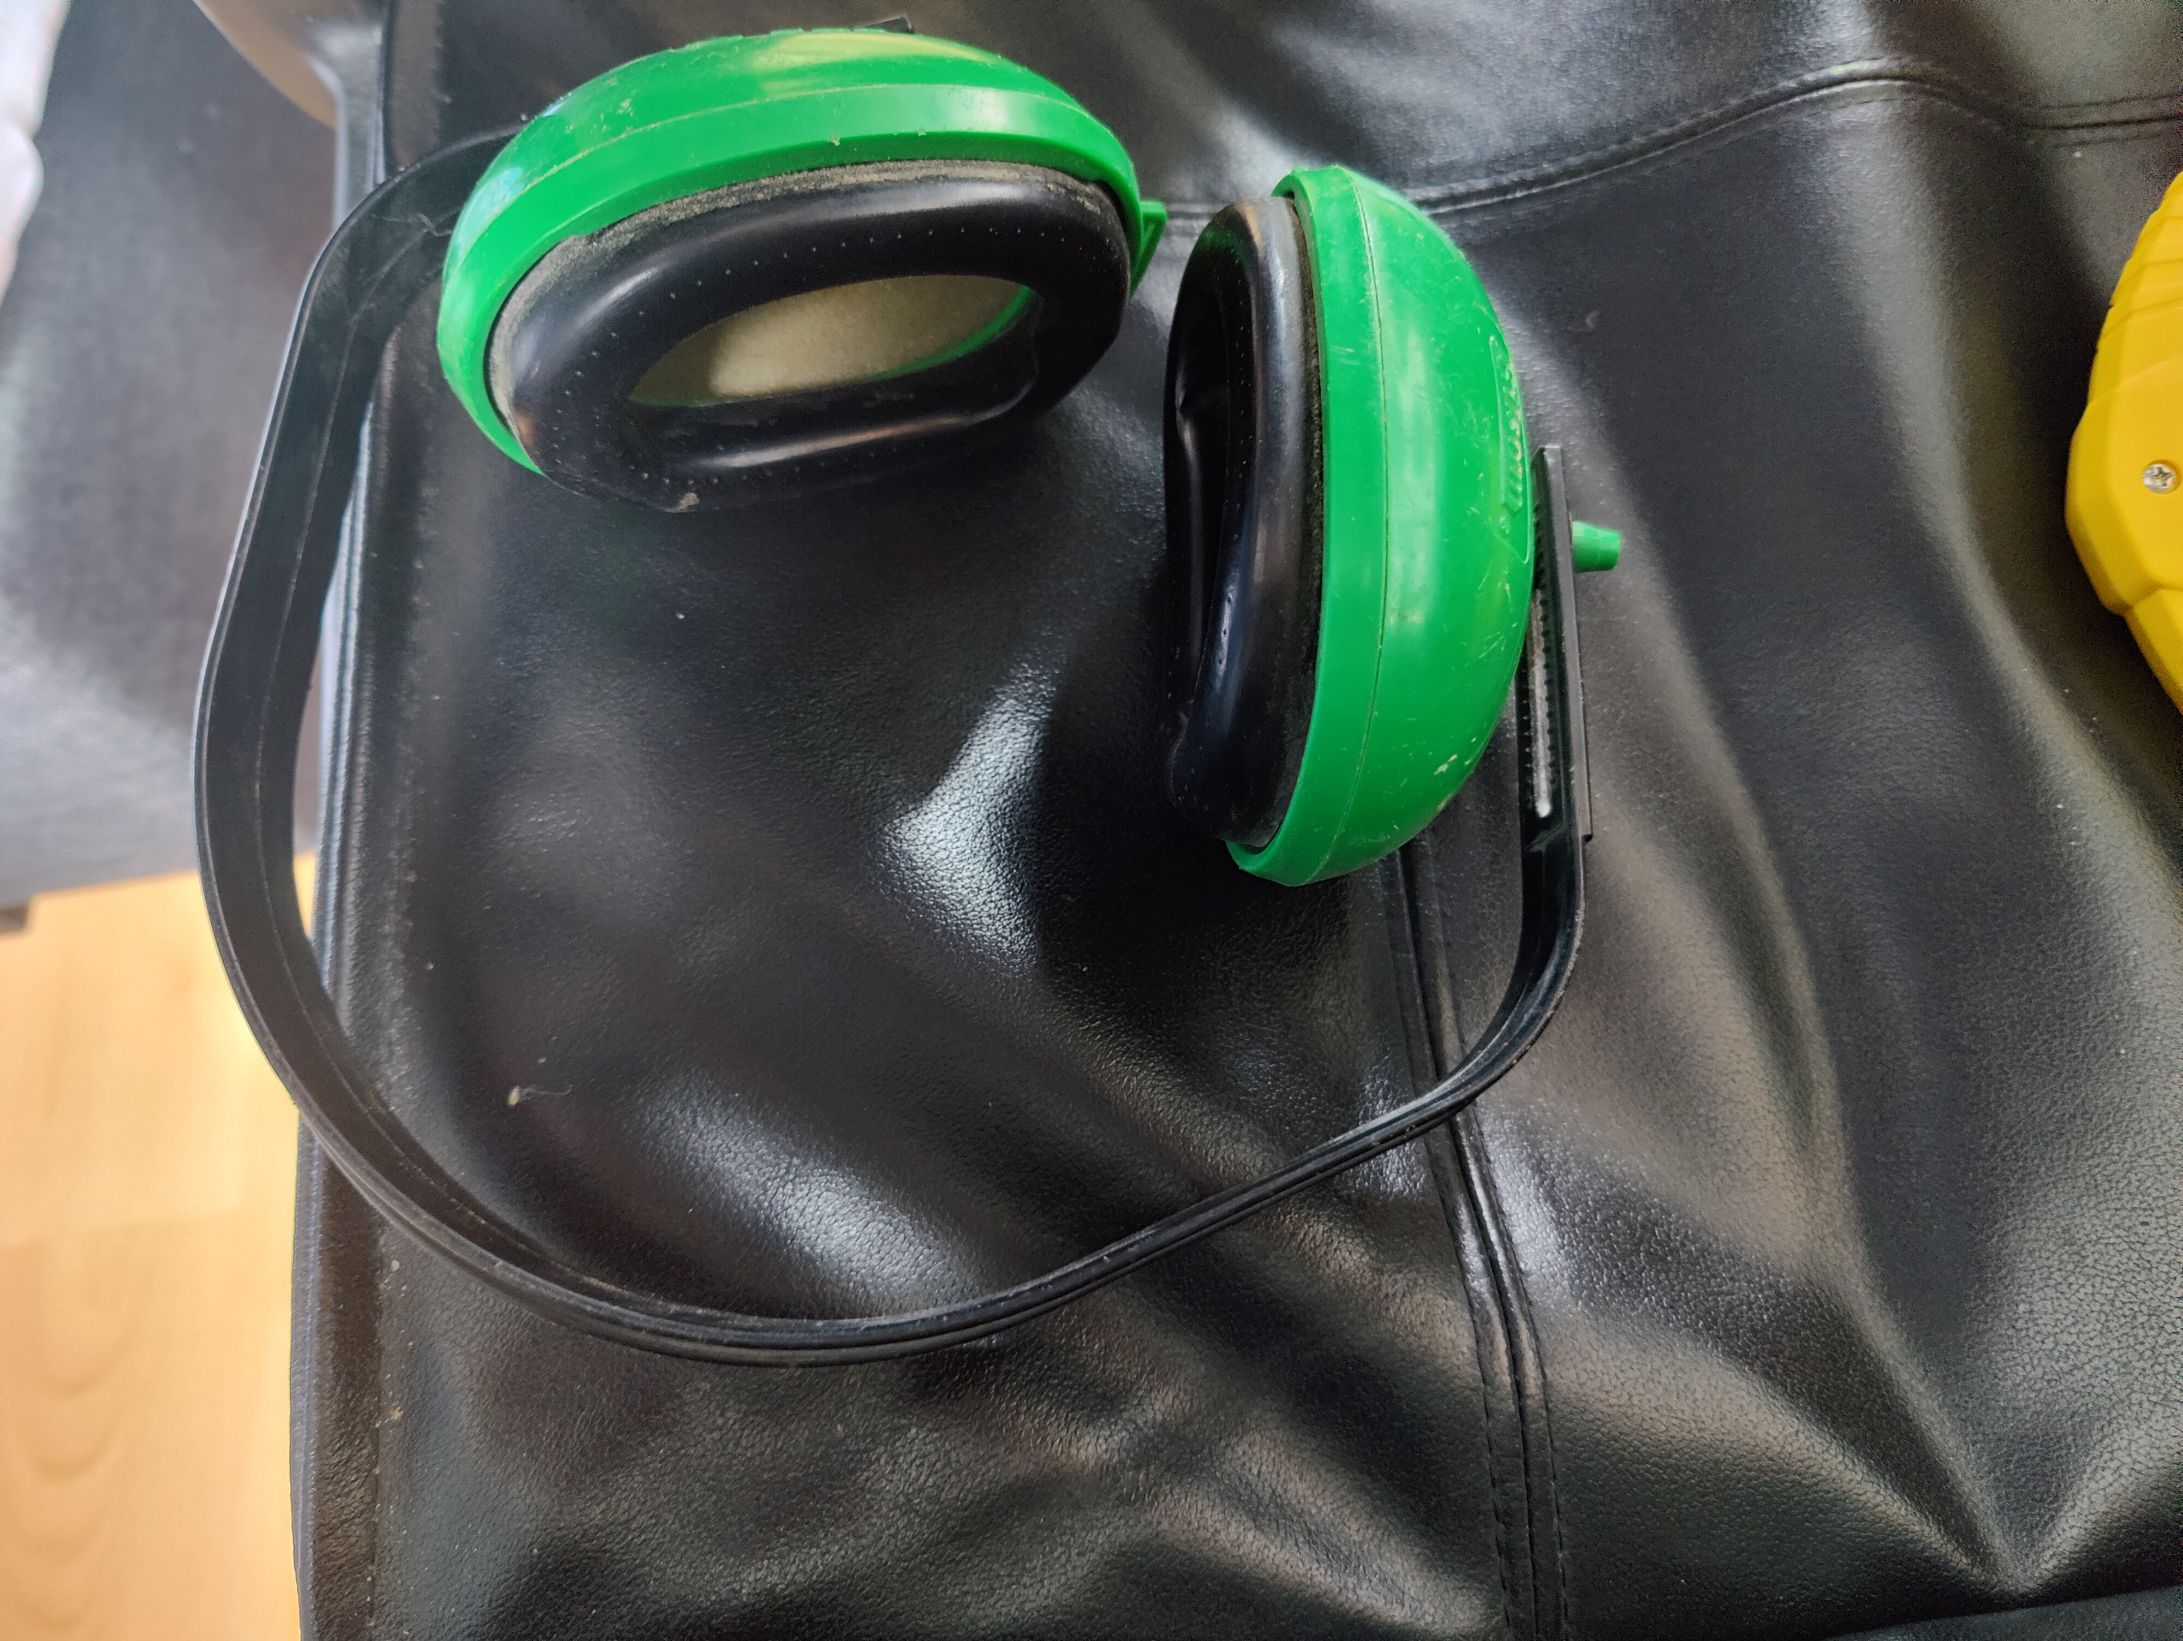headphones: (195, 29, 1625, 1381)
